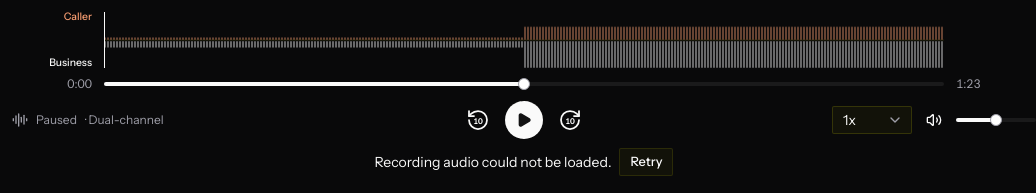
Test case: RecordingPlayer › explains a Recording audio load failure and retries it
Check: the element named "Waveform" is shown, box [104,12,944,68]
Check: the text "Recording audio could not be loaded." is shown, box [374,152,612,172]
Click the button "Retry" at (646, 162), box [620,148,674,176]
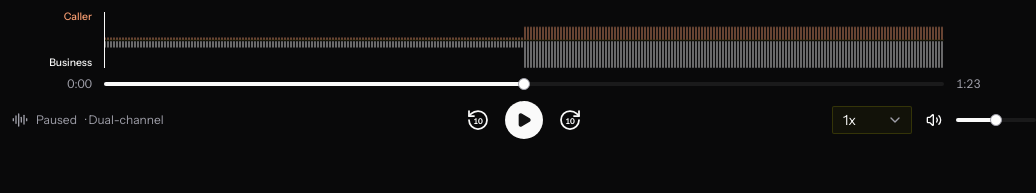
Check: the text "Recording audio could not be loaded." is gone
